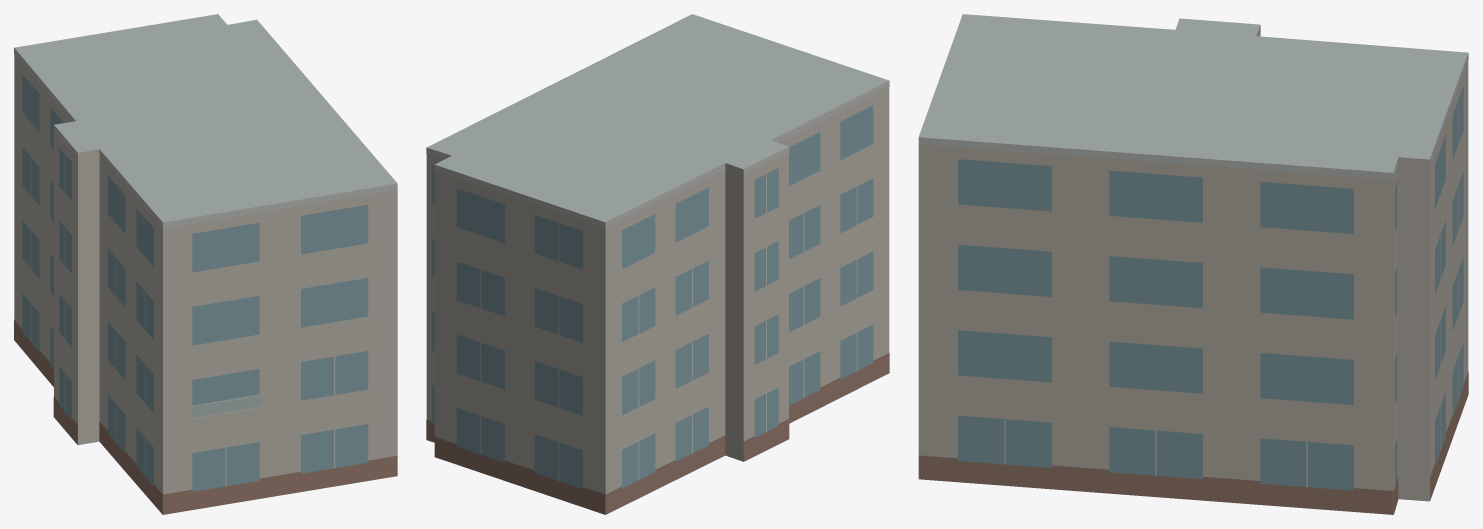
File: survey-upis-32636454.glb
3 views of the same model, side by side, from view 1: azimuth 30°, elevation 25°; view 2: azimuth 150°, elevation 25°; view 3: azimuth 270°, elevation 25° (orthographic). The views are drawn at different scales.
Visible parts, largest first — view 1: survey-upis-32636454.tmp; view 2: survey-upis-32636454.tmp; view 3: survey-upis-32636454.tmp.
Boxes of the visible parts, x1=… form: survey-upis-32636454.tmp: x1=14, y1=14, x2=397, y2=514; survey-upis-32636454.tmp: x1=426, y1=14, x2=889, y2=514; survey-upis-32636454.tmp: x1=918, y1=14, x2=1468, y2=514.
Bounding box in the file's own units: 11.87 × 11.9 × 17.36.
